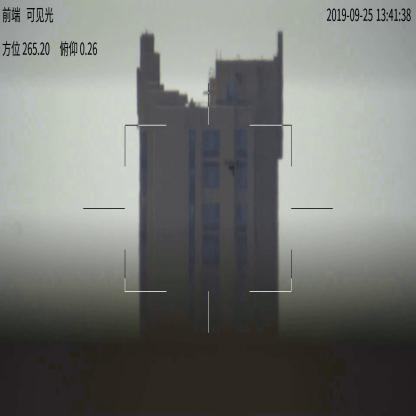uav: (226, 156, 239, 178)
